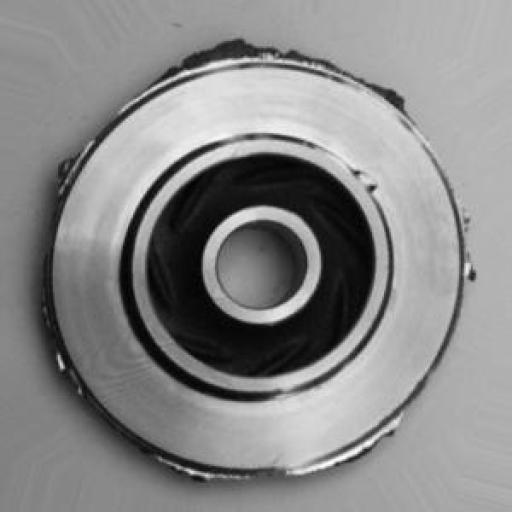defect: (31, 21, 493, 493)
